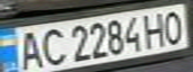2: (66, 21, 90, 63), (87, 19, 109, 60)
4: (121, 12, 145, 52)
8: (106, 17, 127, 56)
A: (12, 28, 45, 71)
C: (36, 25, 69, 68)
H: (139, 10, 172, 48)
O: (160, 7, 190, 45)
